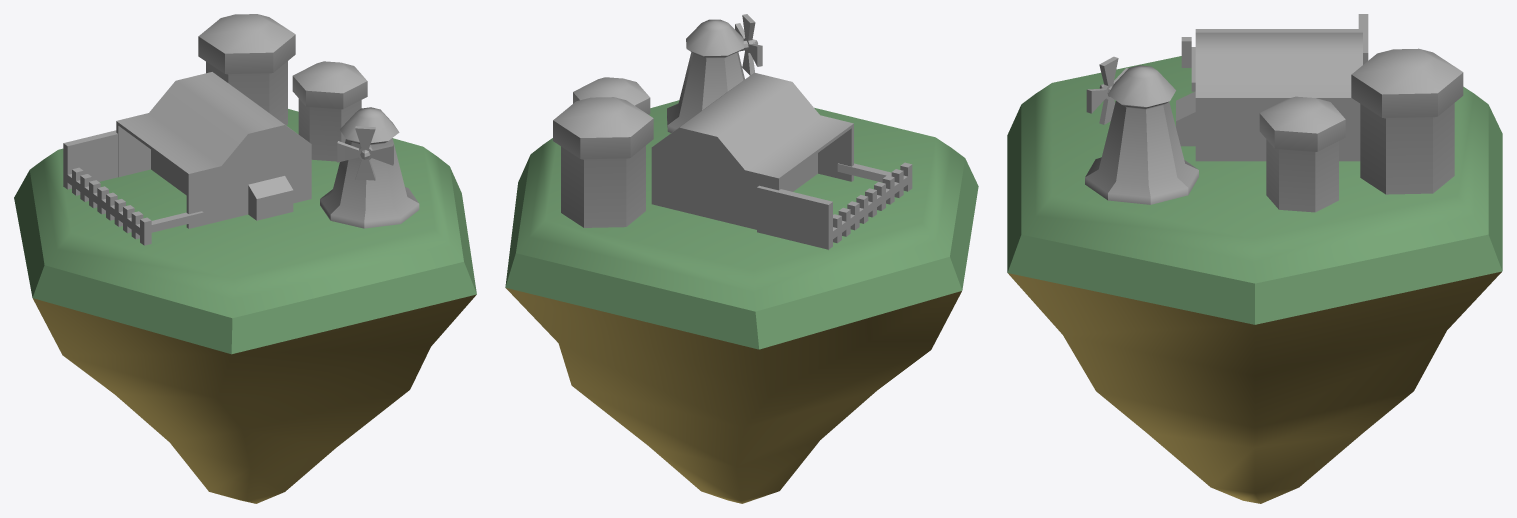
File: sample_farmhouse (1).fbx
3 renders of one model, left to right at view 1: azimuth 30°, elevation 25°; view 2: azimuth 150°, elevation 25°; view 3: azimuth 270°, elevation 25°, orthographic. The views are drawn at different scales.
Visible parts, largest first — view 1: pCube17; view 2: pCube17; view 3: pCube17.
Boxes of the visible parts, bbox=[...] form: pCube17: bbox=[14, 14, 476, 503]; pCube17: bbox=[505, 14, 978, 503]; pCube17: bbox=[1007, 14, 1502, 503].
Size of the model in its own units: 11.53 by 10.62 by 9.99.
